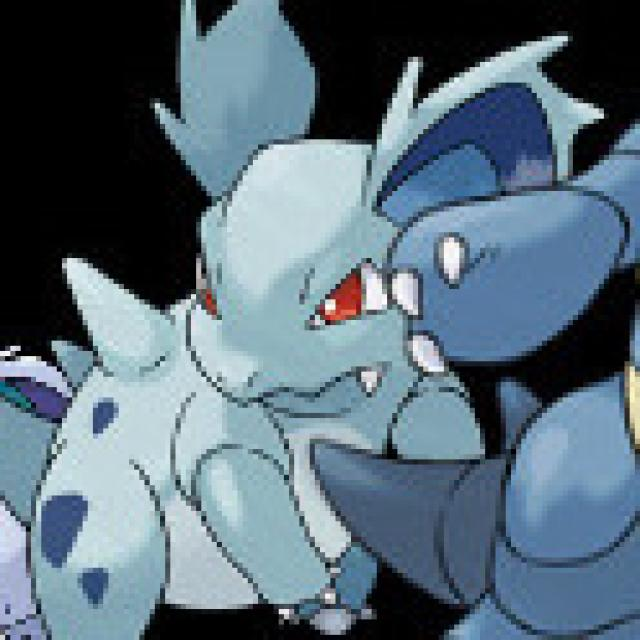Nidorina: (25, 27, 485, 590)
